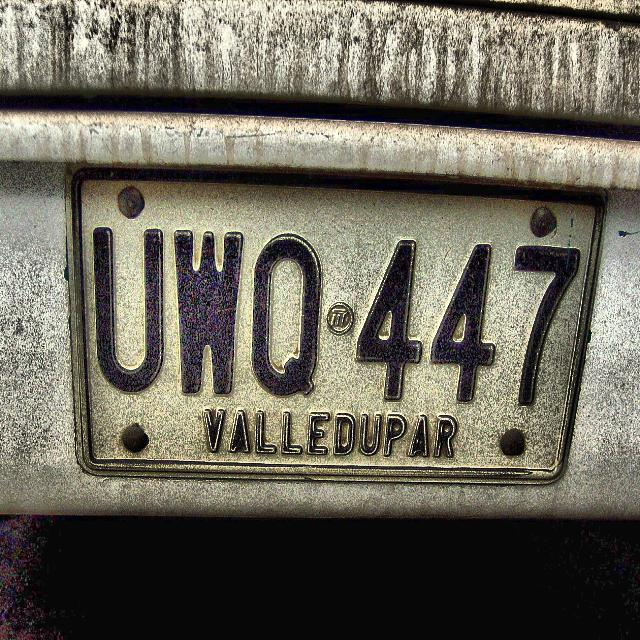plate: (69, 170, 602, 474)
